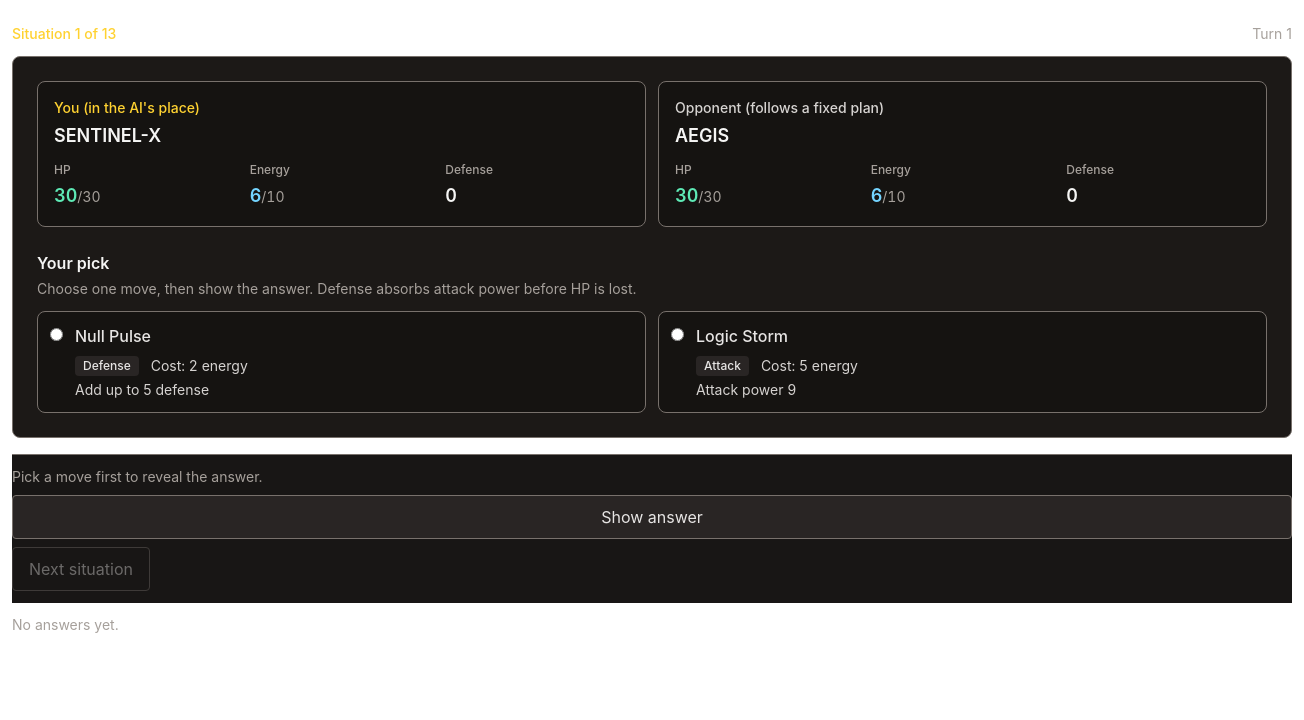
Test case: ChallengeView › Show answer is enabled after a pick
The image size is (1304, 720).
Expected: the button with test id "challenge-show-answer" is disabled, [12,495,1292,539]
Click the radio button labelled "Null Pulse Defense Cost: 2 energy Add up to 5 defense".
click(56, 334)  # box [50,328,63,341]
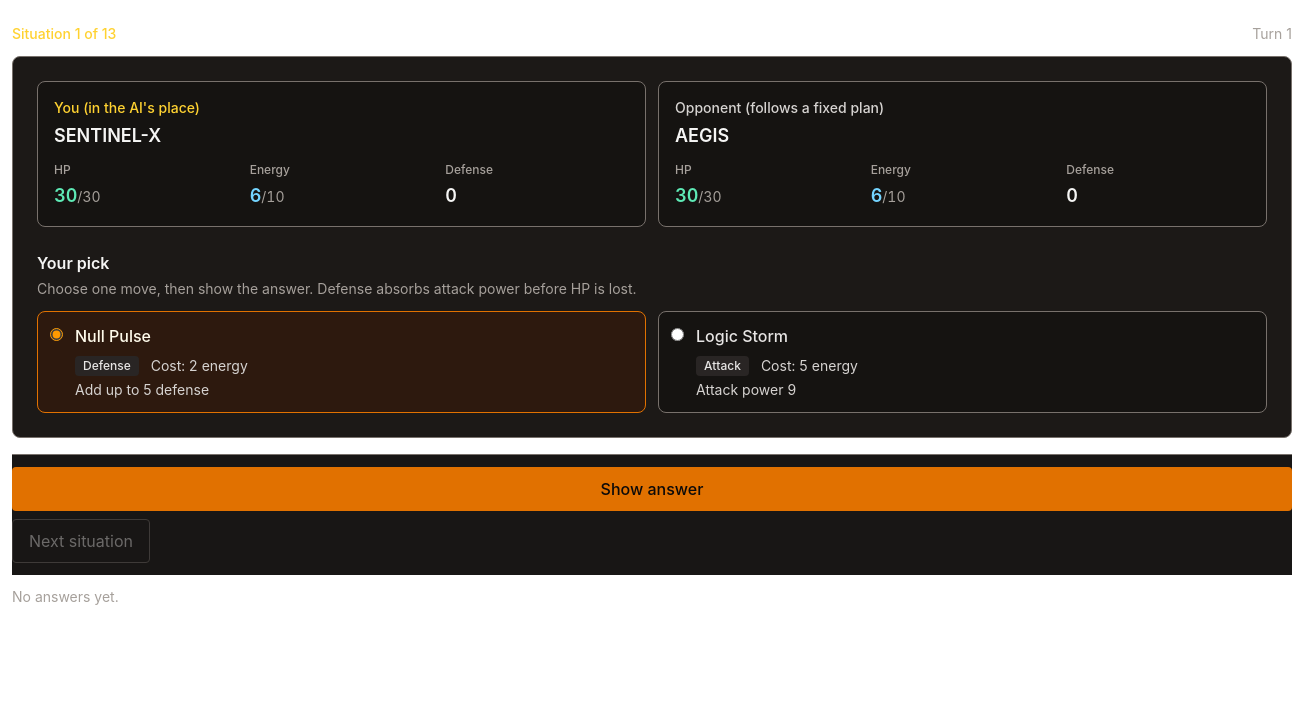
Result: the button with test id "challenge-show-answer" is enabled at [12,467,1292,511]
